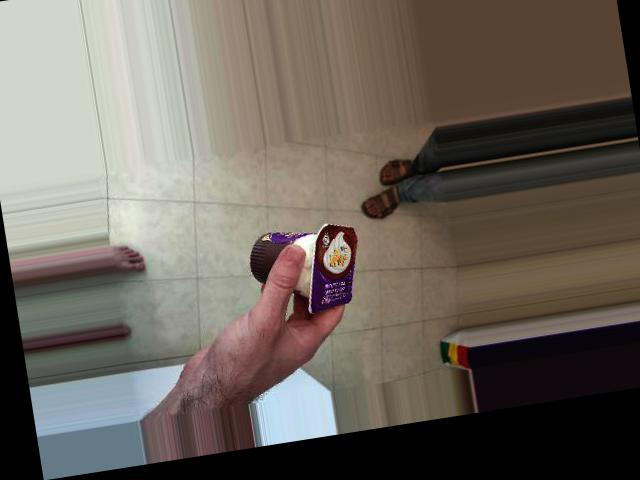milky: (262, 181, 374, 301)
